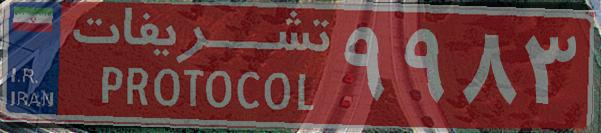3: (520, 20, 580, 115)
8: (460, 20, 520, 115)
9: (340, 20, 400, 115), (400, 20, 460, 115)
تشریفات: (60, 8, 340, 125)
